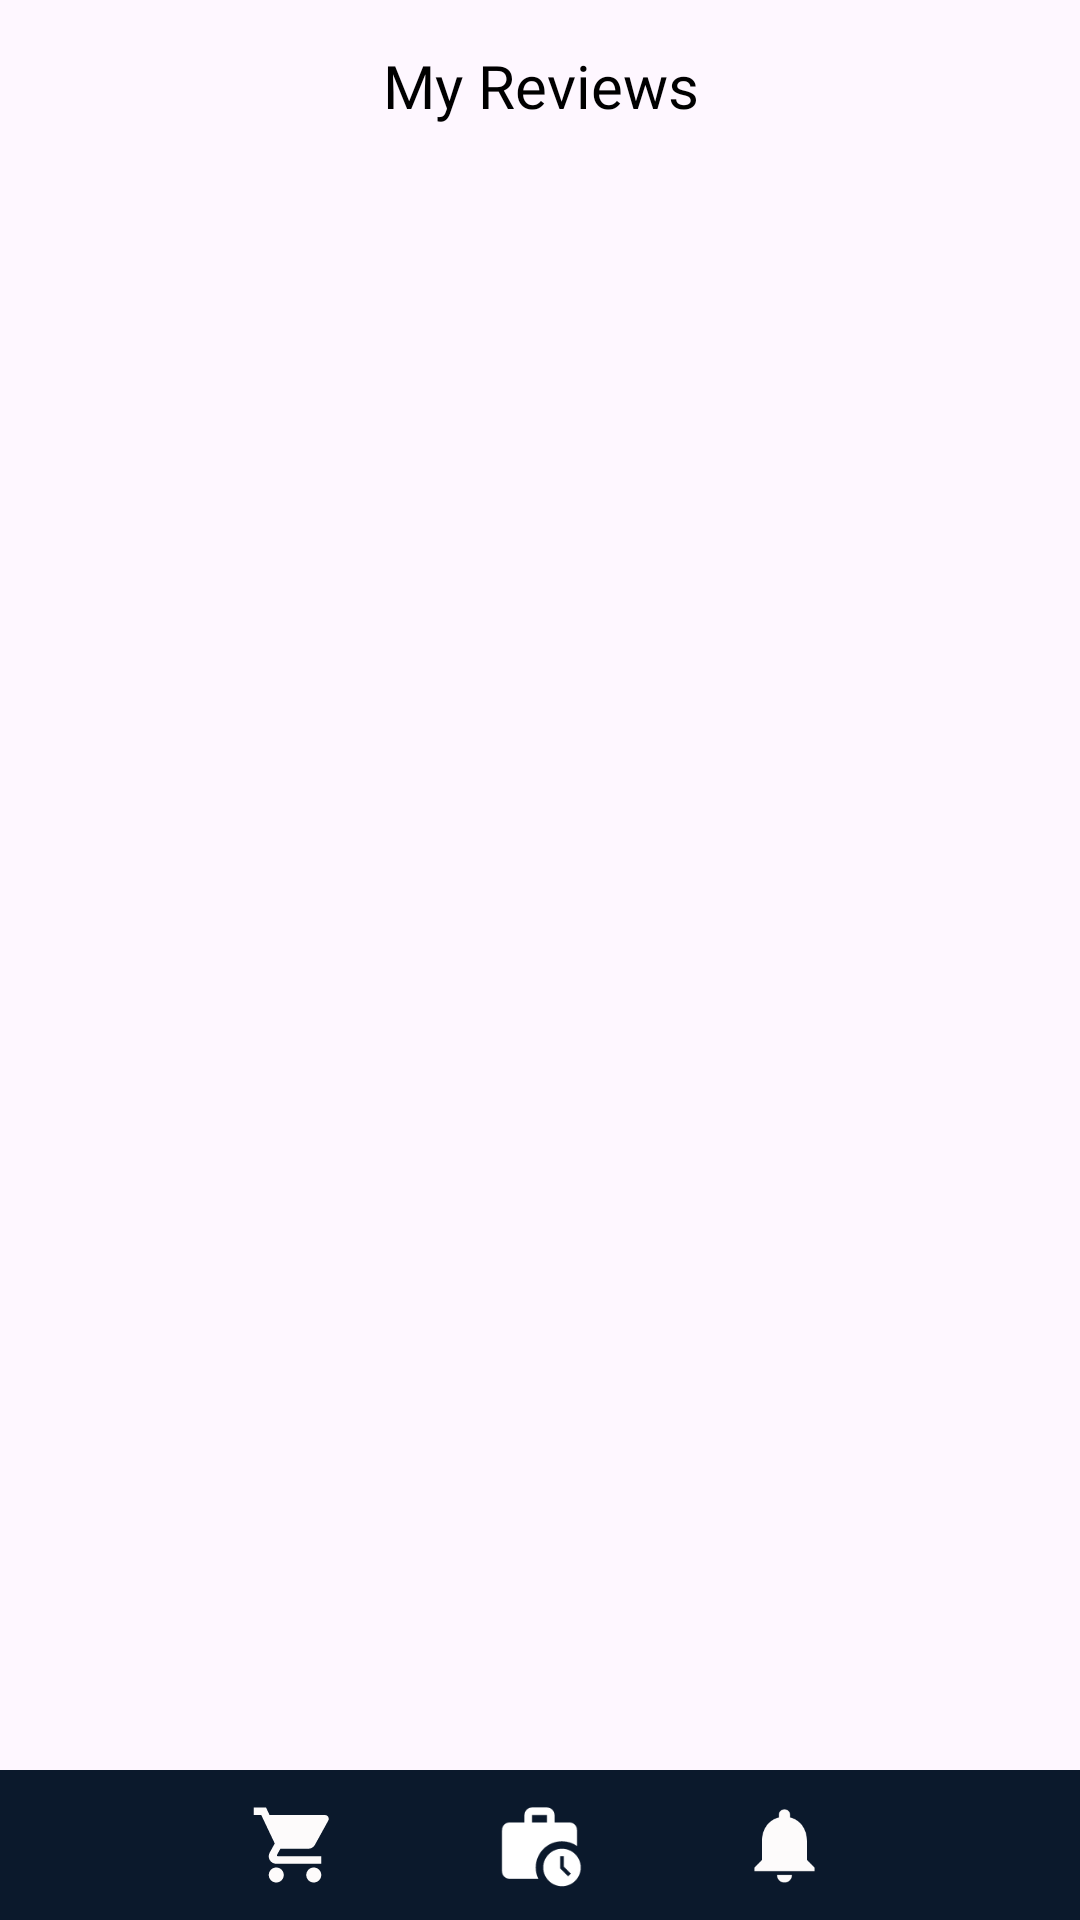

Icons on this 1080px×1920px Android screen, each with the point to tap as (x=x, y=y):
cart: (x=291, y=1845)
notifications: (x=784, y=1846)
work history: (x=541, y=1847)
